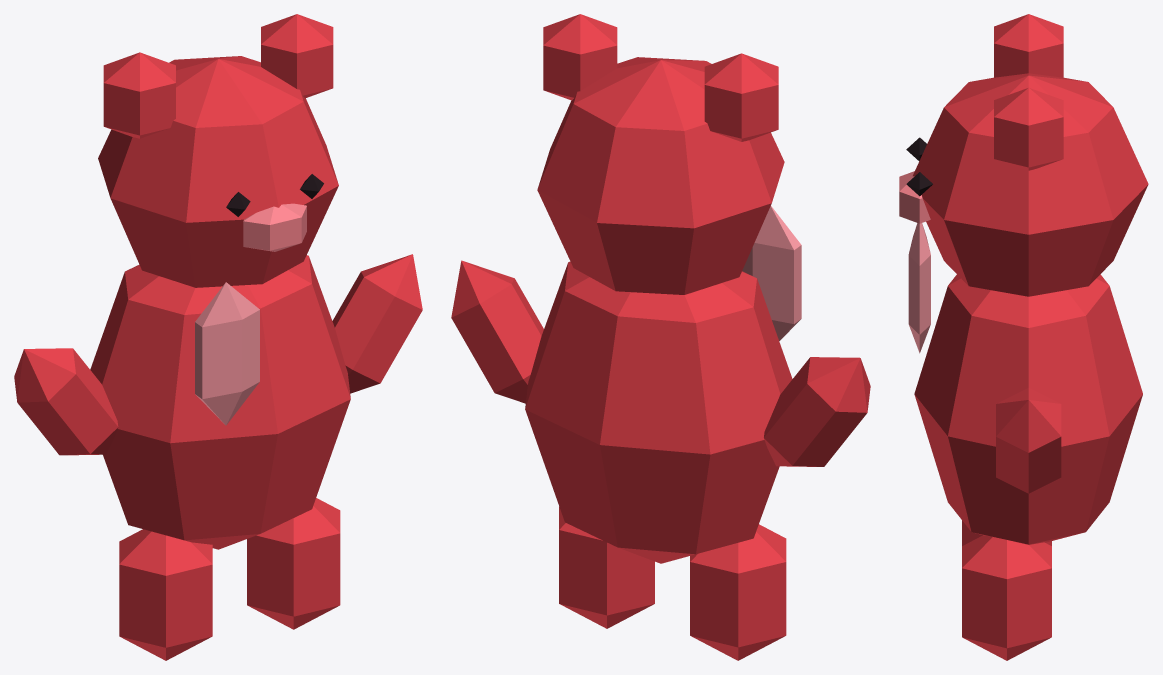
Rendered from Food_GummyBear.obj.
3 views of the same model, side by side, from view 1: azimuth 30°, elevation 25°; view 2: azimuth 150°, elevation 25°; view 3: azimuth 270°, elevation 25° (orthographic). The views are drawn at different scales.
Bounding box in the file's own units: 1.64 × 2.35 × 0.915.
